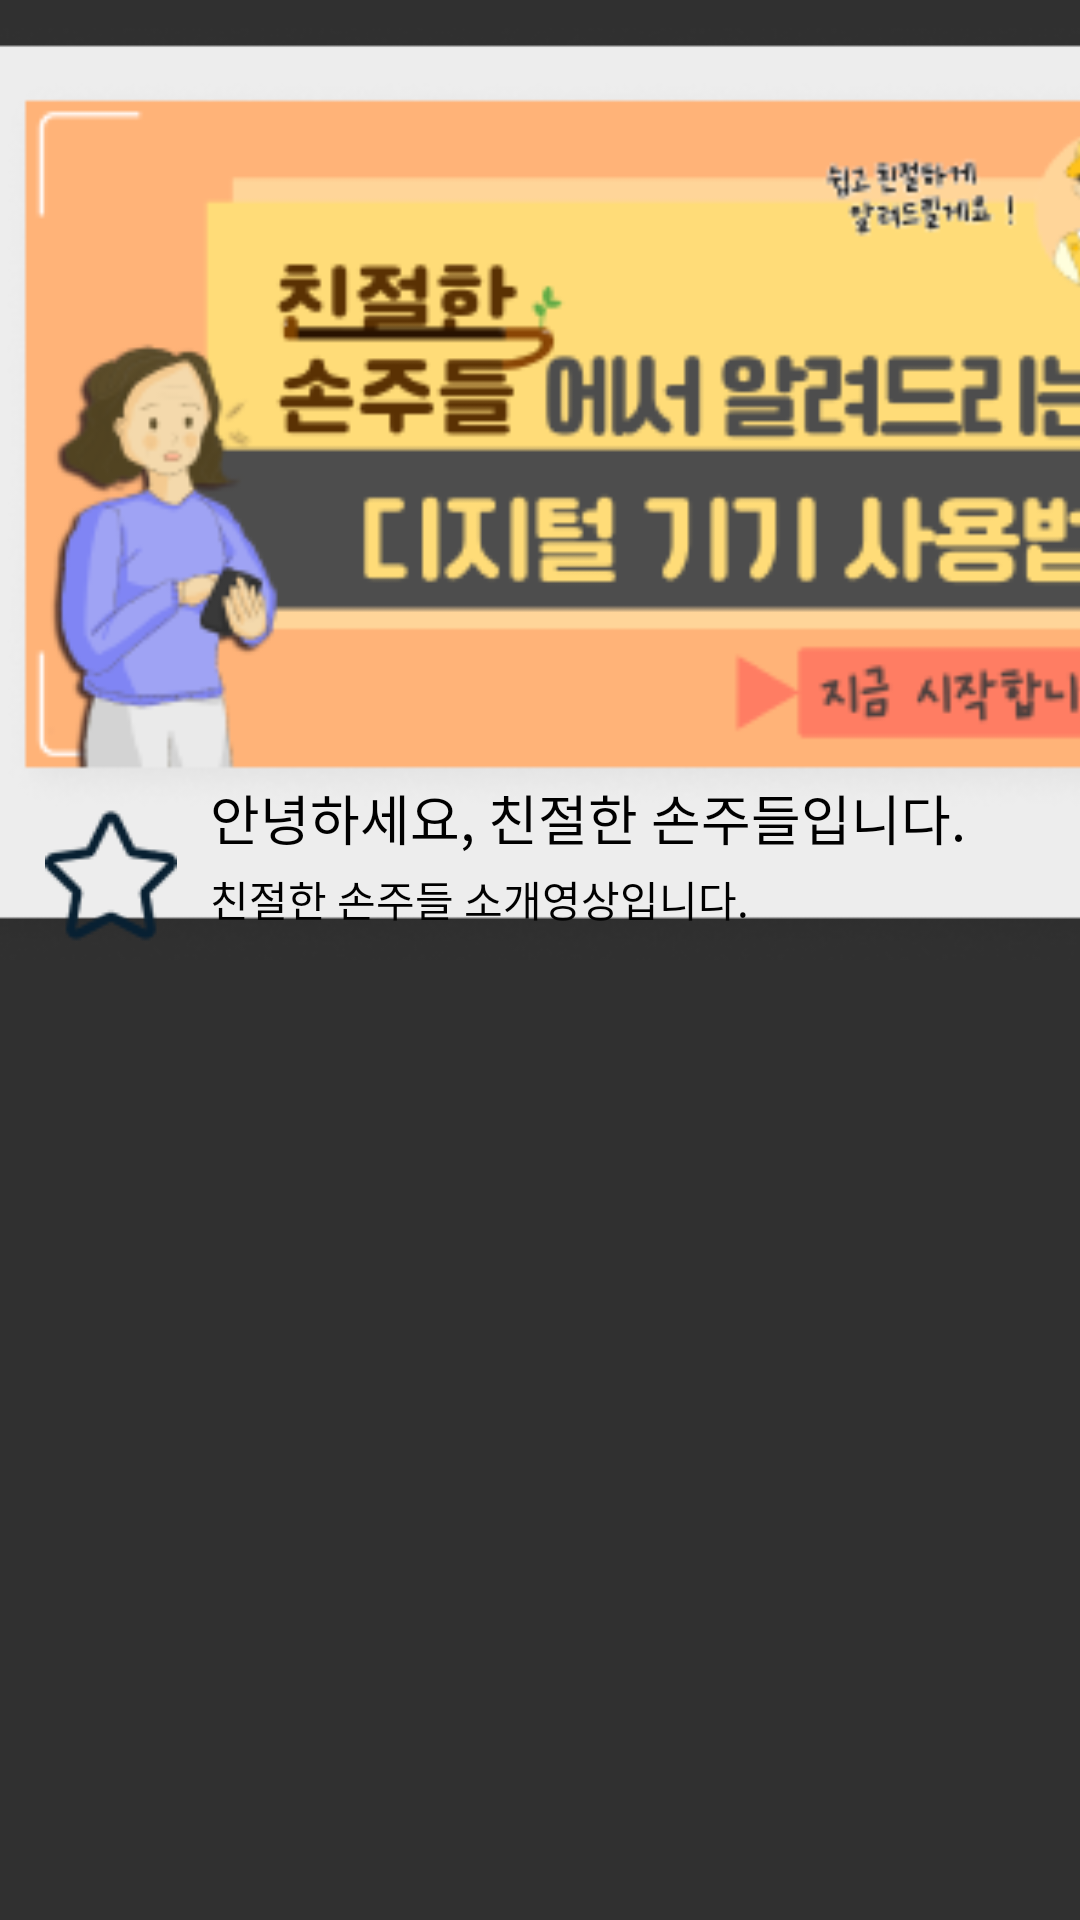

Icon click points for this 1080 x 1920 phone screenshot, format (x,y):
null star: (111,876)
